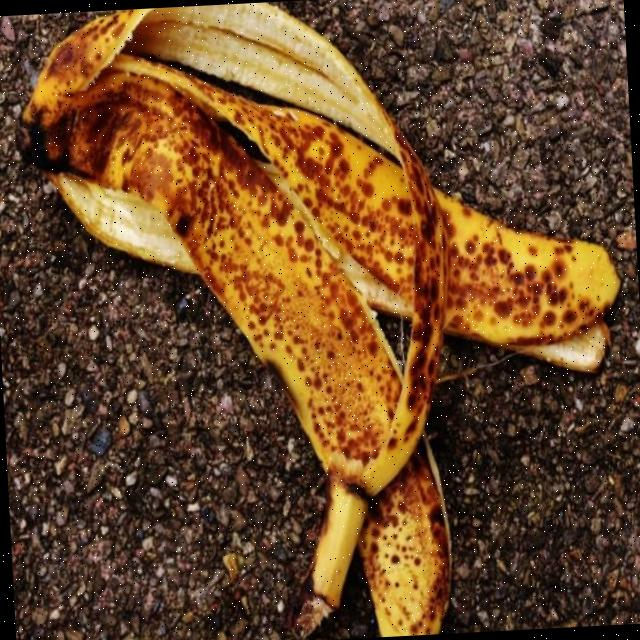banana-peel: (9, 0, 638, 640)
